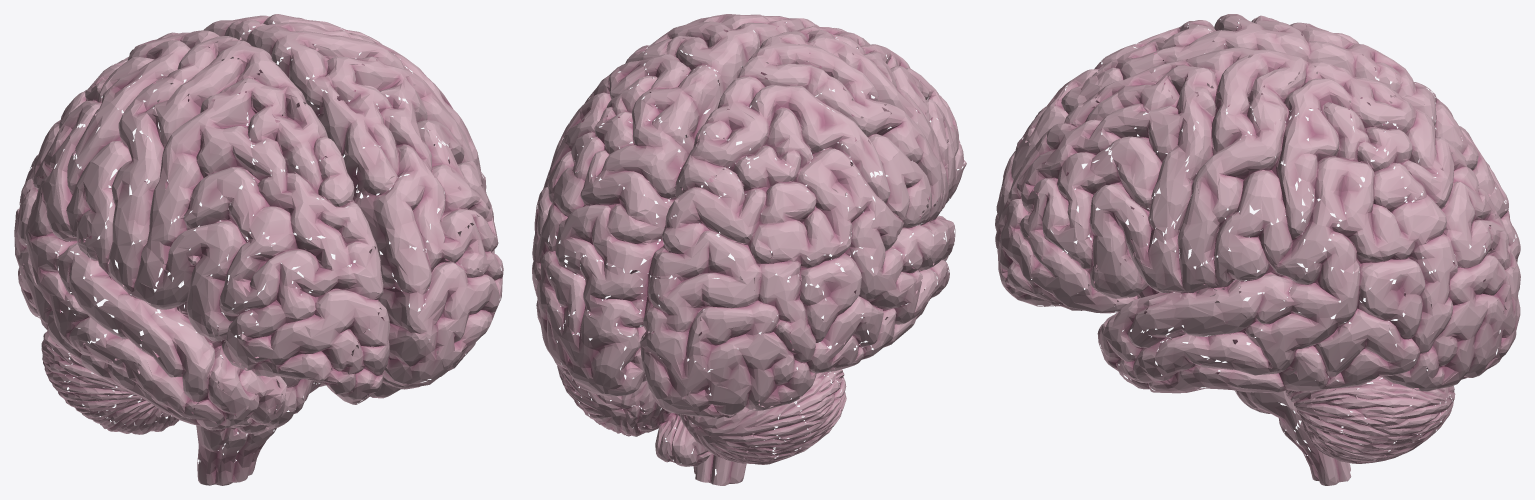
The model's file is brain.glb.
3 views of the same model, side by side, from view 1: azimuth 30°, elevation 25°; view 2: azimuth 150°, elevation 25°; view 3: azimuth 270°, elevation 25° (orthographic). The views are drawn at different scales.
Parts seen in each view (by area): view 1: brain; view 2: brain; view 3: brain.
Boxes of the visible parts, x1,y1,x2,y2 form: brain: [14, 14, 503, 485]; brain: [532, 14, 966, 485]; brain: [995, 14, 1520, 485].
Size of the model in its own units: 0.8085 by 0.9114 by 1.
